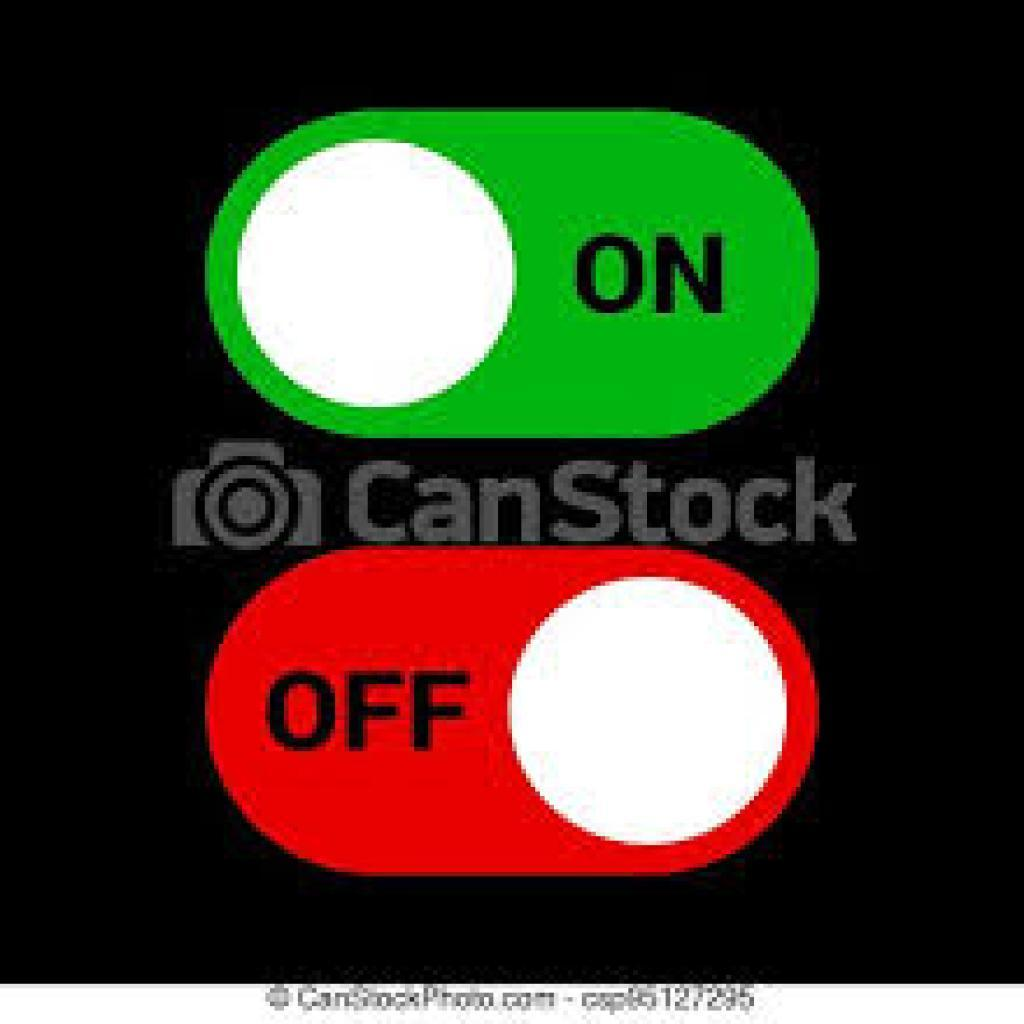switch: (199, 548, 826, 875), (208, 110, 823, 443)
